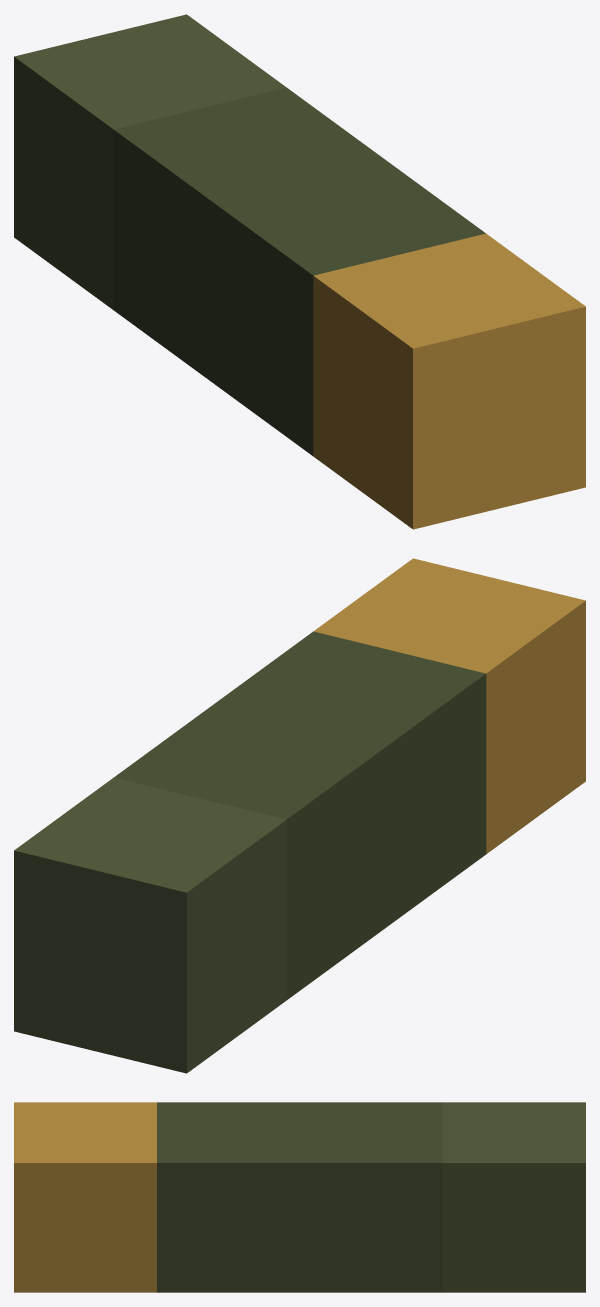
Rendered from round_40mm.glb.
The picture shows the model from 3 angles, top to bottom: view 1: azimuth 30°, elevation 25°; view 2: azimuth 150°, elevation 25°; view 3: azimuth 270°, elevation 25°; orthographic projection. The views are drawn at different scales.
Visible parts, largest first — view 1: wpn__round_40mm__body; view 2: wpn__round_40mm__body; view 3: wpn__round_40mm__body.
Part boxes in pixels (bbox=[...]): wpn__round_40mm__body: bbox=[14, 14, 585, 529]; wpn__round_40mm__body: bbox=[14, 558, 585, 1073]; wpn__round_40mm__body: bbox=[14, 1102, 585, 1292].
Bounding box in the file's own units: 0.025 × 0.025 × 0.1.
